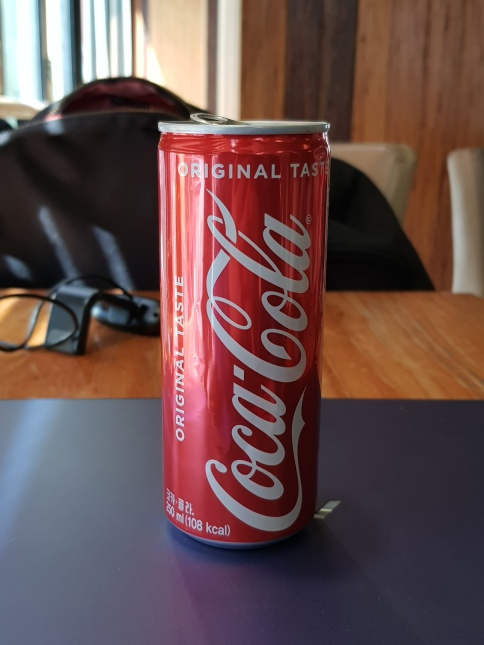Can: (152, 108, 335, 549)
